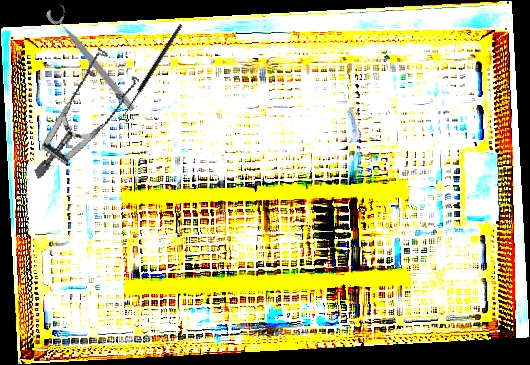Fixation Ring: (44, 0, 144, 115)
Hook Surgical: (119, 23, 188, 123)
Speculum: (1, 37, 160, 180)
